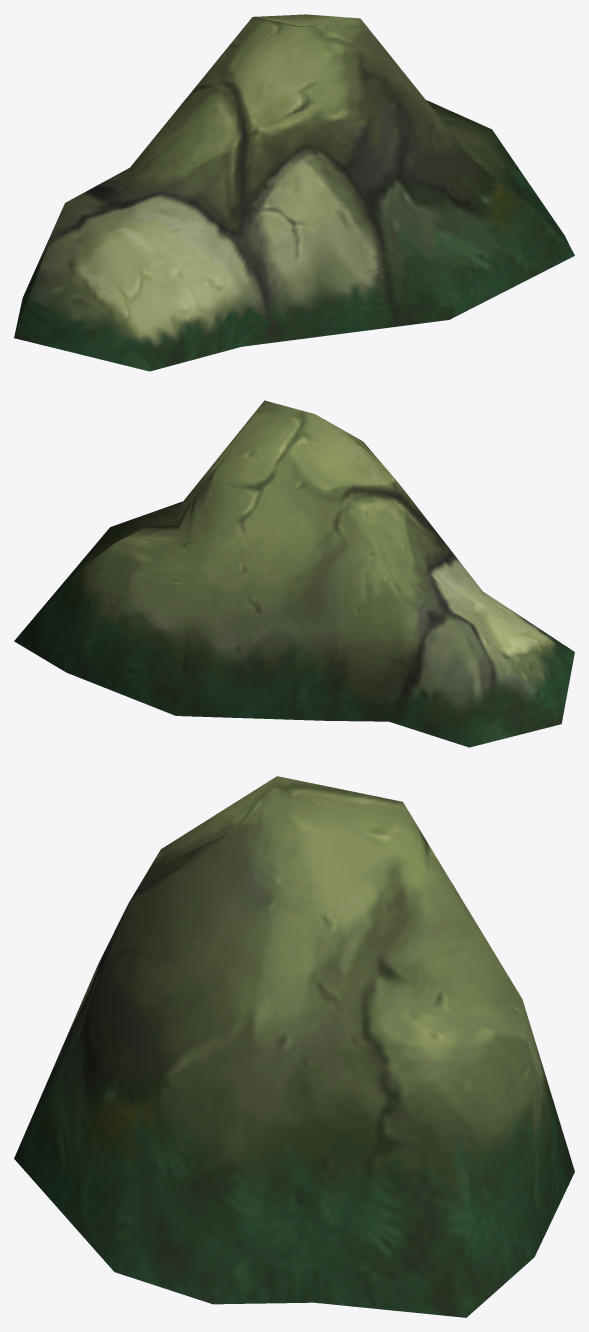
3 views of the same model, one above another, from view 1: azimuth 30°, elevation 25°; view 2: azimuth 150°, elevation 25°; view 3: azimuth 270°, elevation 25° (orthographic). The views are drawn at different scales.
Parts seen in each view (by area): view 1: st04; view 2: st04; view 3: st04.
Boxes of the visible parts, box(x1,y1,x2,y2) form: st04: box(14, 14, 574, 371); st04: box(14, 400, 574, 747); st04: box(14, 776, 574, 1317).
Bounding box in the file's own units: 30.72 × 19.75 × 14.36.
